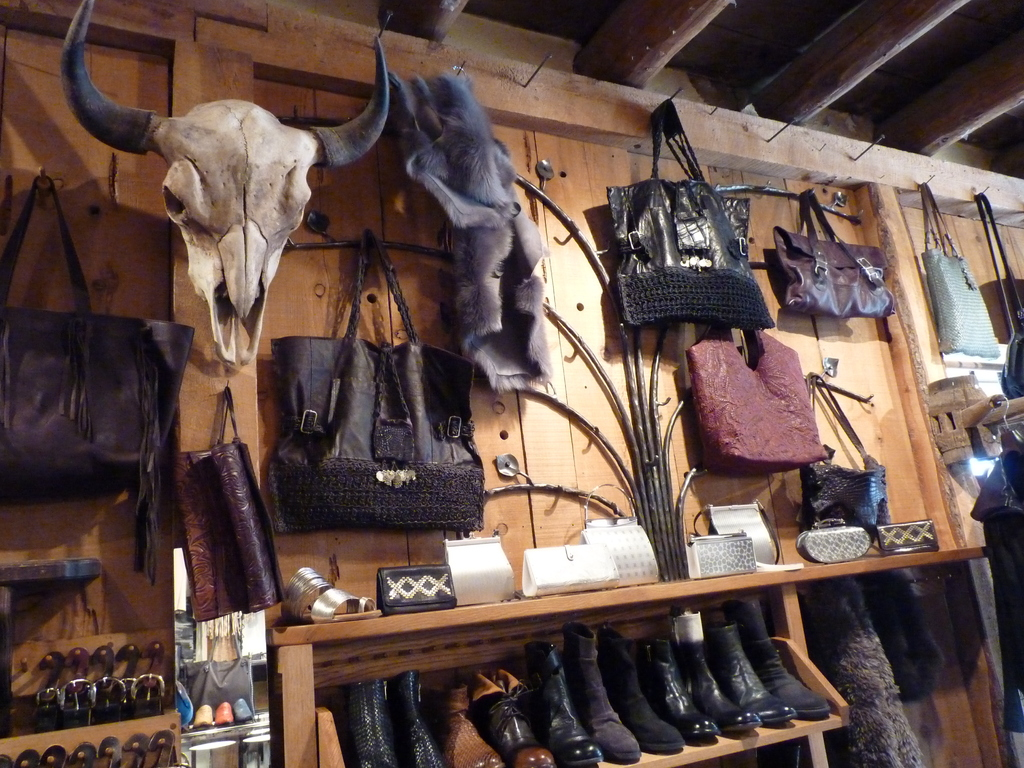Footwear: (337, 594, 831, 767), (559, 621, 642, 763), (279, 563, 381, 620)
